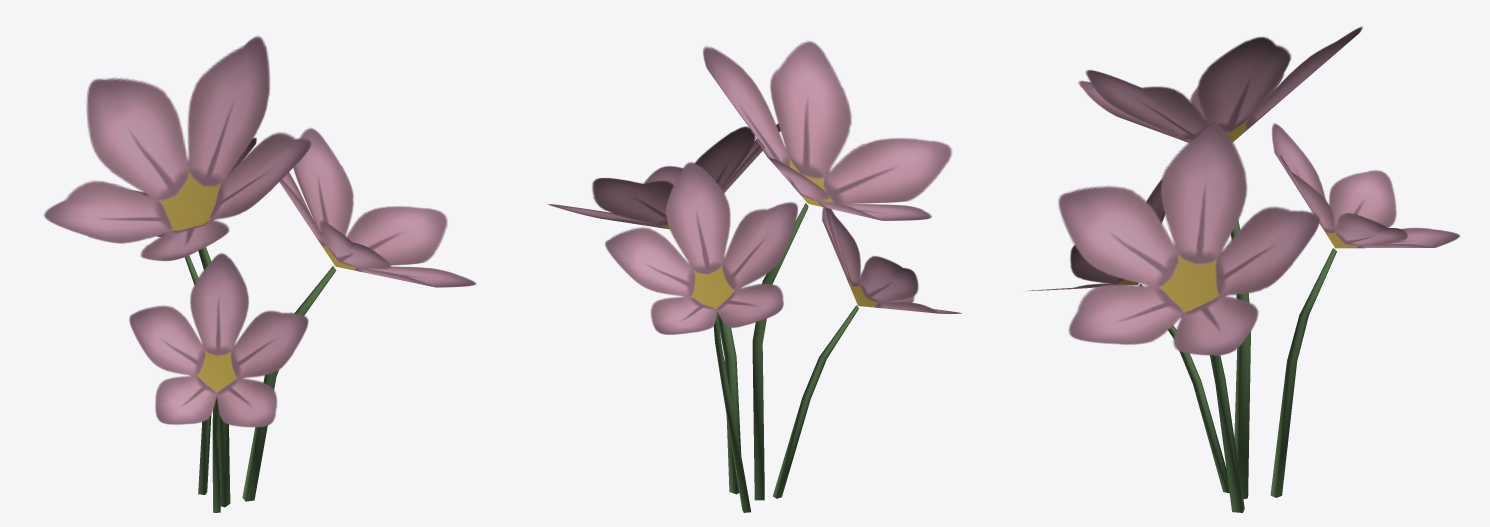
Rendered from estilizada-Flower_4_Clump.glb.
The picture shows the model from 3 angles, left to right: view 1: azimuth 30°, elevation 25°; view 2: azimuth 150°, elevation 25°; view 3: azimuth 270°, elevation 25°; orthographic projection. The views are drawn at different scales.
Visible parts, largest first — view 1: Flower_4_Clump; view 2: Flower_4_Clump; view 3: Flower_4_Clump.
Boxes of the visible parts, x1,y1,x2,y2 form: Flower_4_Clump: (43,36,476,512); Flower_4_Clump: (548,41,961,512); Flower_4_Clump: (1028,26,1460,512).
Bounding box in the file's own units: 0.568 × 0.6011 × 0.4979.
1 material, 1 textured.
